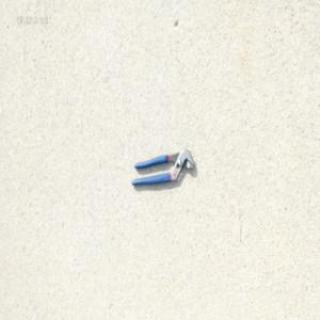Pliertrack_idkeyframe: (128, 145, 193, 185)
